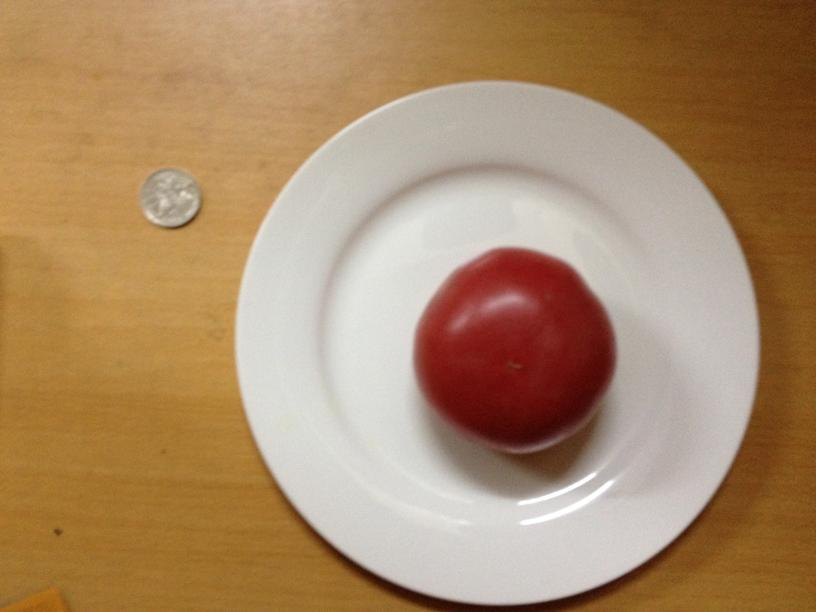coin: (134, 169, 204, 228)
tomato: (408, 242, 619, 456)
